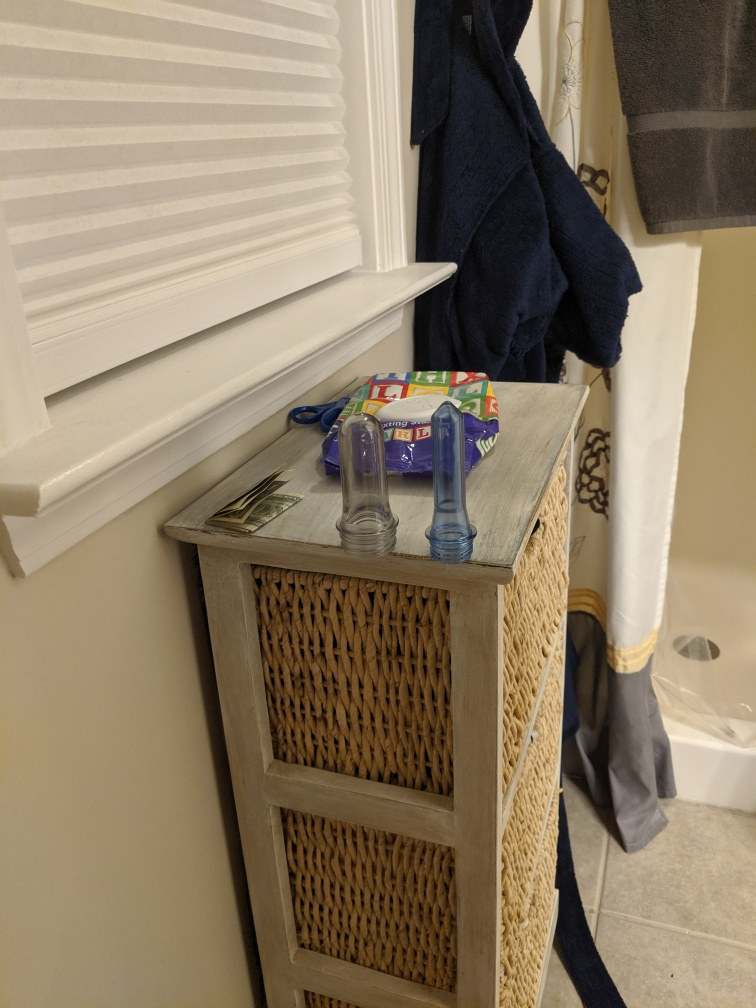preform: (329, 410, 407, 566), (418, 397, 481, 567)
